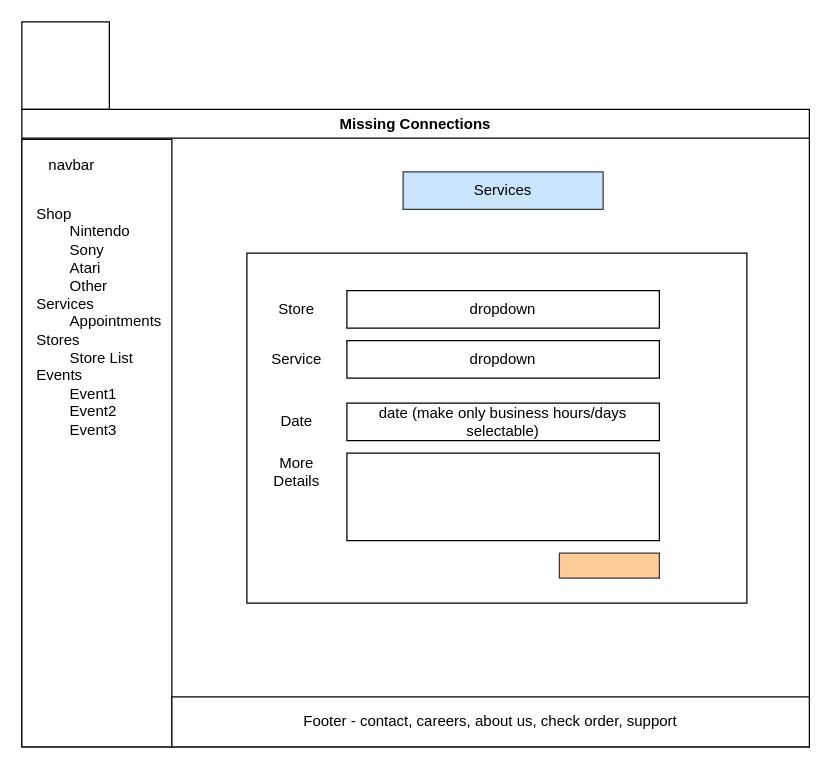
Some shapes in this 831 by 769 pixel diagram are drawn without their labels. The shapes that lost their labels are listed below. From the top down, each one's box as (x1, y1, x2, y2) in pixels, then its label:
(21, 21, 109, 109): content bonus button page title
(346, 452, 659, 541): text box
(558, 552, 659, 578): Schedule
